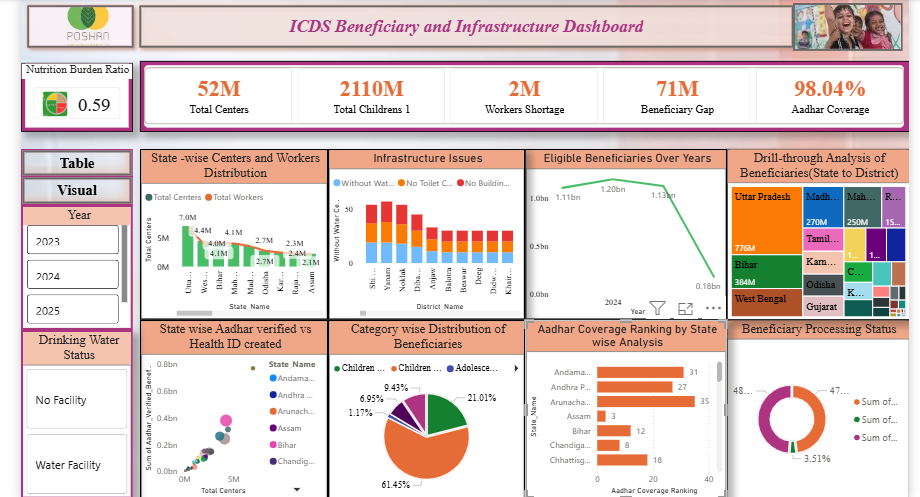

What the dashboard file says about the page in this screenshot:
{"tool":"powerbi","page":{"name":"Dashboard","canvas":[1280,720],"ordinal":0},"visuals":[{"type":"actionButton","box":[0,0,171.4,79.2],"z":0},{"type":"actionButton","box":[161.3,0,960.5,79.2],"z":1000},{"type":"cardVisual","fields":{"Data":["poshan_DB_1.Total Centers","poshan_DB_1.Total Childrens 1","poshan_DB_1.Workers Shortage","poshan_DB_1.Beneficiary Gap","poshan_DB_1.Aadhar Coverage"]},"box":[171.4,89.3,1108.8,102.2],"z":2000},{"type":"lineStackedColumnComboChart","title":"State -wise Centers and Workers Distribution","fields":{"Category":["poshan_DB_1.State_Name"],"Y":["poshan_DB_1.Total Centers"],"Y2":["poshan_DB_1.Total Workers"]},"box":[171.4,216,270.7,246.2],"z":3000},{"type":"lineChart","title":"Eligible Beneficiaries Over Years","fields":{"Category":["Calendar Table.Year"],"Y":["Sum(poshan_DB_1.Eligible_Beneficiaries)"]},"box":[725.8,216,290.9,246.2],"z":4000},{"type":"scatterChart","title":"State wise Aadhar verified vs Health ID created","fields":{"X":["poshan_DB_1.Total Centers"],"Series":["poshan_DB_1.State_Name"],"Y":["Sum(poshan_DB_1. Aadhar_Verified_Beneficiaries)"],"Size":["Sum(poshan_DB_1. Health_id_Created)"]},"box":[171.4,462.2,270.7,257.8],"z":5000},{"type":"columnChart","title":"Infrastructure  Issues","fields":{"Category":["poshan_DB_1.District_Name"],"Y":["poshan_DB_1.Without Water Centres","poshan_DB_1.No Toilet Centres","poshan_DB_1.No Buildings Centres"]},"box":[787.7,473.8,283.7,246.2],"z":6000},{"type":"clusteredBarChart","title":"Aadhar Coverage Ranking by State wise Analysis","fields":{"Category":["poshan_DB_1.State_Name"],"Y":["poshan_DB_1.Aadhar Coverage Ranking"]},"box":[725.8,462.2,290.9,257.8],"z":7000},{"type":"advancedSlicerVisual","fields":{"Values":["Calendar Table.Year"]},"box":[0,296.6,161.3,180],"z":8000},{"type":"advancedSlicerVisual","fields":{"Values":["poshan_DB_1.Drinking Water Status"]},"box":[0,476.6,161.3,243.4],"z":9000},{"type":"actionButton","box":[0,254.9,161.3,41.8],"z":10000},{"type":"actionButton","box":[0,216,161.3,40.3],"z":11000},{"type":"actionButton","box":[1111.7,5.8,158.4,69.1],"z":12000},{"type":"pieChart","title":"Category wise Distribution of Beneficiaries","fields":{"Y":["Sum(poshan_DB_1.Children 0-2 Years)","Sum(poshan_DB_1. Children 3-6 Years)","Sum(poshan_DB_1.Adolescent_Girls)","Sum(poshan_DB_1.Lacting_Mothers)","Sum(poshan_DB_1.Pregnant_Womens)"]},"box":[442.1,462.2,283.7,257.8],"z":13000},{"type":"donutChart","title":"Beneficiary Processing Status","fields":{"Y":["Sum(poshan_DB_1. Aadhar_Verified_Beneficiaries)","Sum(poshan_DB_1. Health_id_Created)","Sum(poshan_DB_1.Eligible_Beneficiaries)"]},"box":[1017,462,263,258],"z":14000},{"type":"cardVisual","title":"Nutrition Burden Ratio","fields":{"Data":["poshan_DB_1.Nutrition Burden Ratio"]},"box":[0,92.2,161.3,99.4],"z":15000},{"type":"treemap","title":"Drill-through Analysis of Beneficiaries(State to District)","fields":{"Group":["poshan_DB_1.State_Name","poshan_DB_1.District_Name"],"Values":["poshan_DB_1.Total Beneficiaries"]},"box":[1016.6,216,263.5,246.2],"z":16000},{"type":"columnChart","title":"Infrastructure  Issues","fields":{"Category":["poshan_DB_1.District_Name"],"Y":["poshan_DB_1.Without Water Centres","poshan_DB_1.No Toilet Centres","poshan_DB_1.No Buildings Centres"]},"box":[442,215.8,284.3,248.6],"z":18000}]}

Visuals, with their boxes on the page's 1280x720 design canvas (x1, y1, x2, y2). These are canvas units, not pixel positions in the 920x497 screenshot, which may show the page scaled, cropped or inside an application window:
actionButton: (0,0,171,79)
actionButton: (161,0,1122,79)
cardVisual - poshan_DB_1.Total Centers x poshan_DB_1.Total Childrens 1: (171,89,1280,192)
"State -wise Centers and Workers Distribution" lineStackedColumnComboChart: (171,216,442,462)
"Eligible Beneficiaries Over Years" lineChart: (726,216,1017,462)
"State wise Aadhar verified vs Health ID created" scatterChart: (171,462,442,720)
"Infrastructure  Issues" columnChart: (788,474,1071,720)
"Aadhar Coverage Ranking by State wise Analysis" clusteredBarChart: (726,462,1017,720)
advancedSlicerVisual - Calendar Table.Year: (0,297,161,477)
advancedSlicerVisual - poshan_DB_1.Drinking Water Status: (0,477,161,720)
actionButton: (0,255,161,297)
actionButton: (0,216,161,256)
actionButton: (1112,6,1270,75)
"Category wise Distribution of Beneficiaries" pieChart: (442,462,726,720)
"Beneficiary Processing Status" donutChart: (1017,462,1280,720)
"Nutrition Burden Ratio" cardVisual: (0,92,161,192)
"Drill-through Analysis of Beneficiaries(State to District)" treemap: (1017,216,1280,462)
"Infrastructure  Issues" columnChart: (442,216,726,464)
